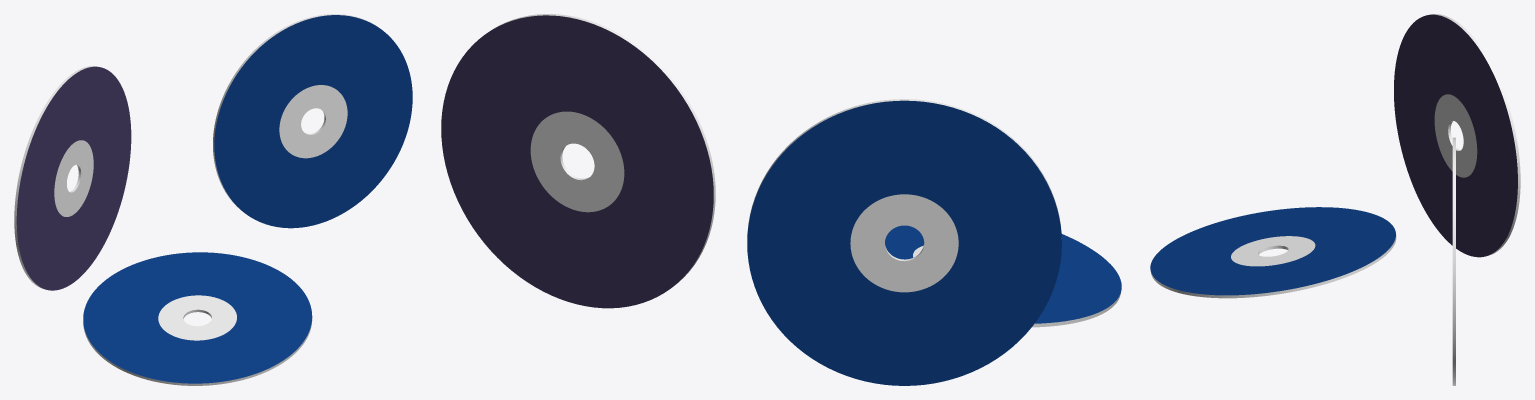
The model's file is DVD_CD.obj.
The picture shows the model from 3 angles, left to right: view 1: azimuth 30°, elevation 25°; view 2: azimuth 150°, elevation 25°; view 3: azimuth 270°, elevation 25°; orthographic projection. The views are drawn at different scales.
Parts seen in each view (by area): view 1: DVD_Media Mesh, BD_Media Mesh, DVD_Media_FiBu Mesh; view 2: DVD_Media_FiBu Mesh, DVD_Media Mesh, BD_Media Mesh; view 3: DVD_Media_FiBu Mesh, BD_Media Mesh, DVD_Media Mesh.
Part boxes in pixels (x1,y1,x2,y2): DVD_Media Mesh: [213, 14, 412, 228]; BD_Media Mesh: [83, 252, 312, 385]; DVD_Media_FiBu Mesh: [14, 66, 131, 290]; DVD_Media_FiBu Mesh: [747, 99, 1061, 385]; DVD_Media Mesh: [441, 14, 715, 308]; BD_Media Mesh: [885, 225, 1121, 327]; DVD_Media_FiBu Mesh: [1394, 14, 1520, 257]; BD_Media Mesh: [1150, 207, 1396, 298]; DVD_Media Mesh: [1452, 137, 1455, 385].
Bounding box in the file's own units: 25.67 × 12.23 × 17.9.
